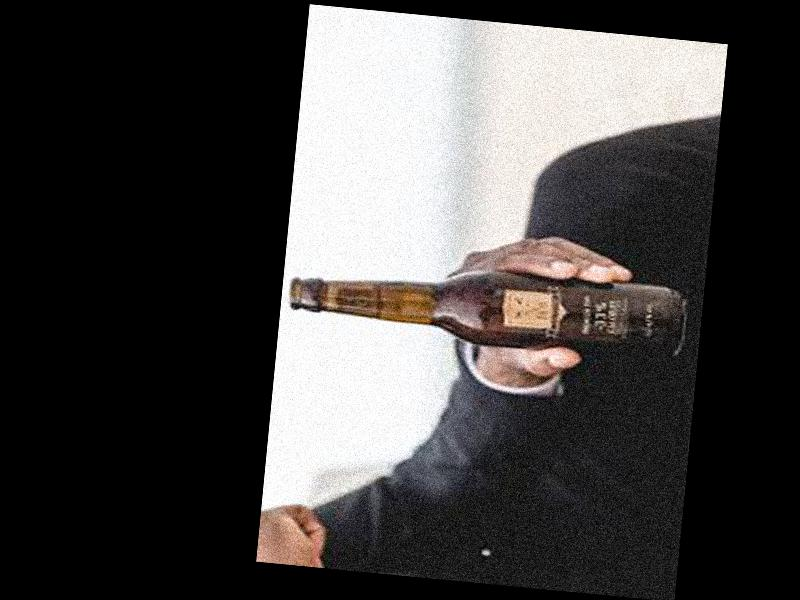Beer: (286, 250, 689, 361)
